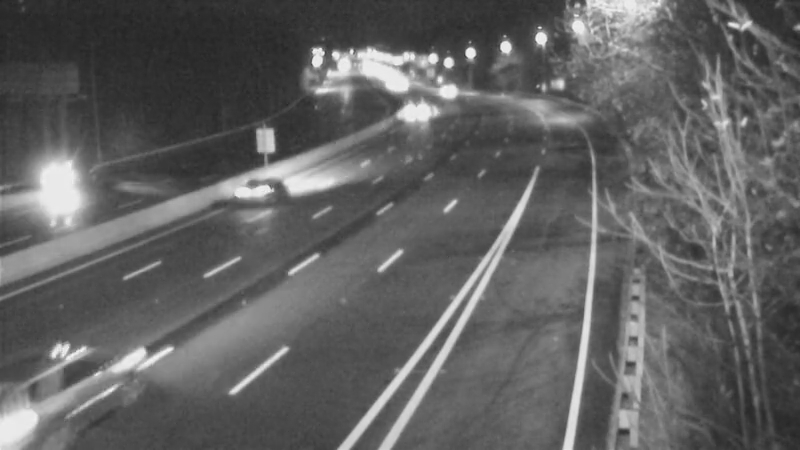vehicle: (19, 334, 129, 444), (223, 152, 303, 232), (27, 140, 107, 220), (422, 63, 472, 113), (390, 84, 440, 134)
